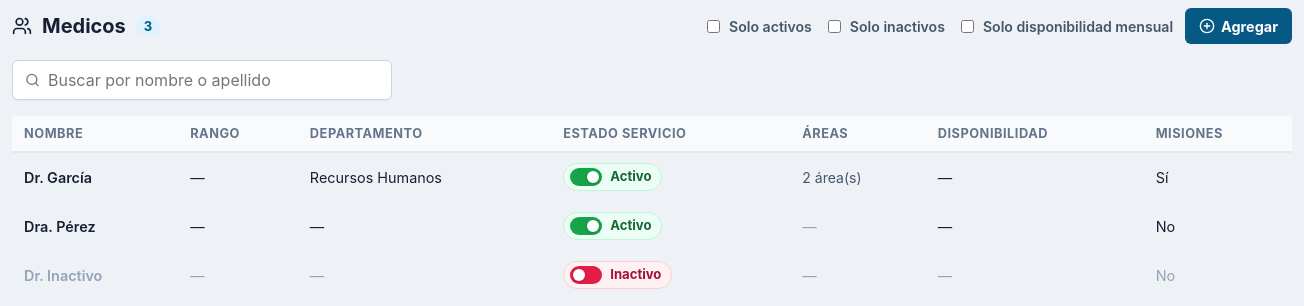
Test: DoctorList › filtra médicos por nombre o apellido
Type "perez" into the field named "Buscar médico por nombre o apellido" at (214, 80), box [48,61,379,99]
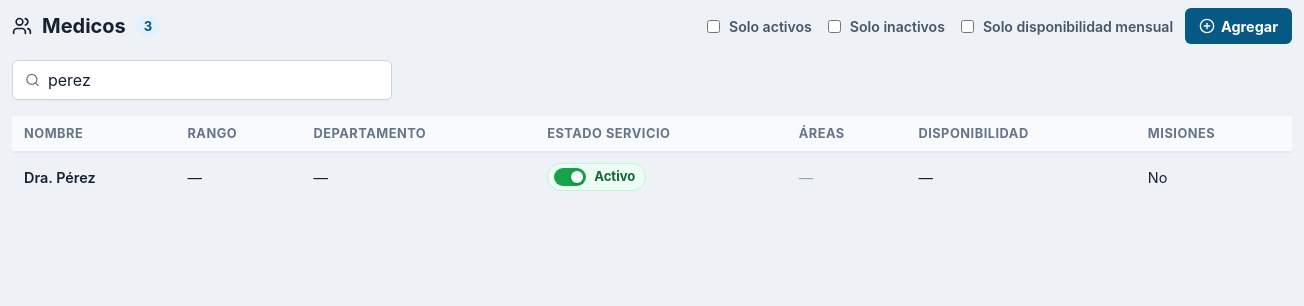
Expected: the text "Dra. Pérez" is shown, [12,152,175,202]
Expected: the button "Dr. García" is gone
